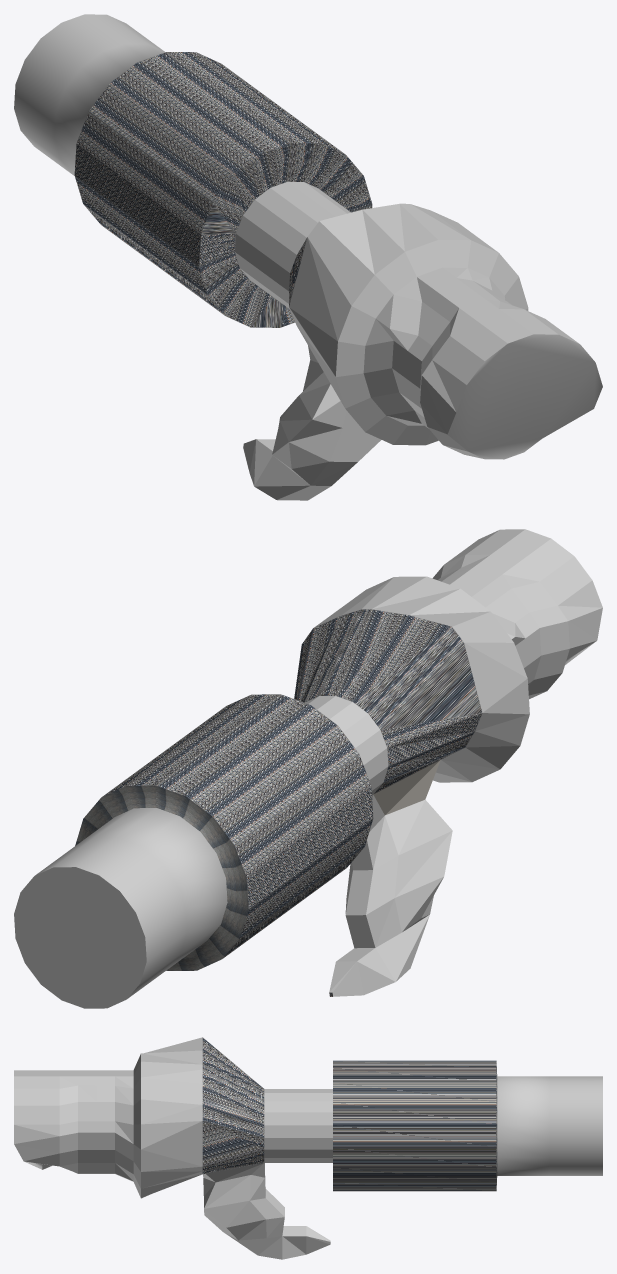
The model's file is Gun.FBX.
The picture shows the model from 3 angles, top to bottom: view 1: azimuth 30°, elevation 25°; view 2: azimuth 150°, elevation 25°; view 3: azimuth 270°, elevation 25°; orthographic projection. The views are drawn at different scales.
Visible parts, largest first — view 1: Cylinder001; view 2: Cylinder001; view 3: Cylinder001.
Boxes of the visible parts, bbox=[...] form: Cylinder001: bbox=[14, 14, 602, 500]; Cylinder001: bbox=[14, 529, 602, 1008]; Cylinder001: bbox=[14, 1037, 602, 1259].
Size of the model in its own units: 10.13 by 16.11 by 40.84.
